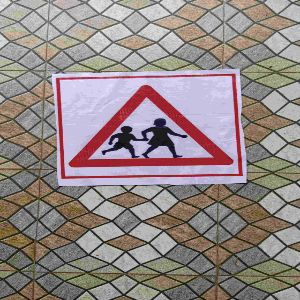schools: (61, 81, 242, 176)
